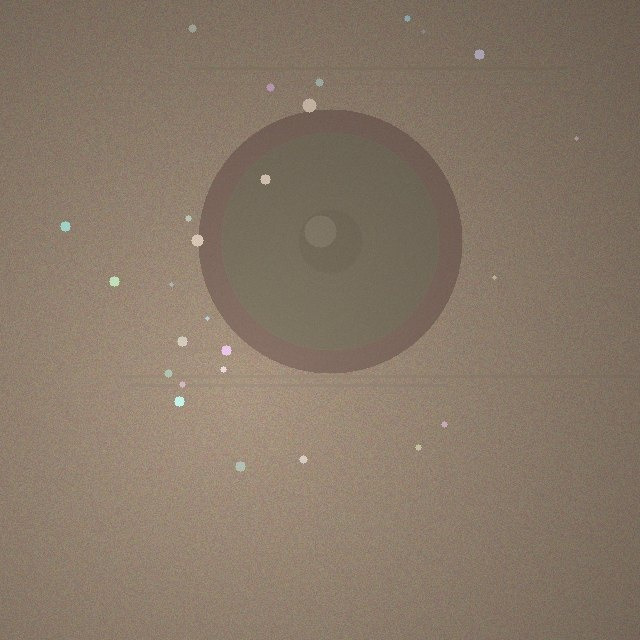overburn: (198, 109, 462, 373)
